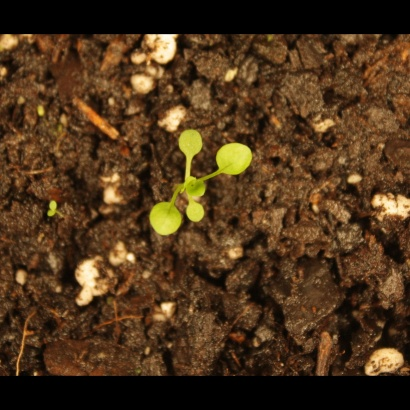leaf: (143, 188, 185, 238), (213, 138, 259, 178), (170, 124, 207, 159), (185, 200, 208, 231), (185, 175, 208, 204), (38, 199, 65, 222)
